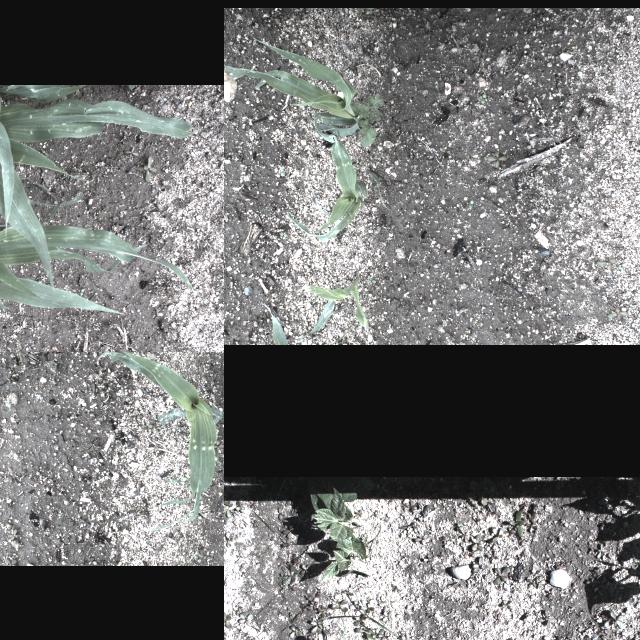crop: (0, 85, 199, 297), (0, 178, 193, 352), (99, 352, 224, 523), (224, 36, 361, 136), (285, 113, 367, 241), (306, 477, 368, 583), (302, 277, 368, 331), (296, 297, 334, 339), (260, 303, 288, 345)
weed: (349, 93, 383, 147), (316, 290, 352, 332), (366, 170, 396, 214), (6, 352, 28, 377), (508, 509, 526, 536), (330, 325, 354, 345), (604, 610, 624, 630), (486, 150, 506, 168), (144, 155, 156, 183), (493, 566, 509, 584), (281, 565, 295, 585), (606, 308, 628, 320), (121, 146, 139, 160), (490, 527, 504, 545), (185, 550, 202, 564), (472, 556, 486, 572), (224, 498, 235, 518), (330, 600, 348, 612), (471, 535, 484, 551), (371, 628, 388, 640), (596, 257, 616, 267), (355, 629, 373, 640), (6, 528, 20, 542), (309, 618, 323, 632), (236, 614, 252, 624), (354, 614, 366, 626), (381, 610, 393, 622), (224, 611, 232, 628), (140, 422, 152, 432), (224, 532, 232, 547), (289, 626, 299, 638), (357, 196, 365, 210), (478, 94, 487, 105), (366, 276, 376, 284), (5, 398, 12, 408), (424, 141, 432, 149), (473, 54, 483, 60), (418, 302, 428, 308), (224, 509, 229, 521), (281, 232, 287, 240), (357, 8, 363, 15), (468, 201, 472, 209), (462, 52, 466, 58), (366, 8, 372, 12), (636, 310, 640, 315), (618, 267, 622, 271), (390, 327, 394, 331), (422, 177, 426, 180)
